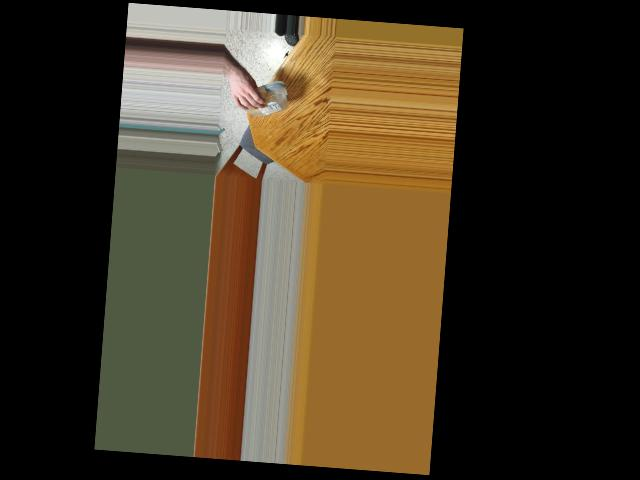cheese: (245, 83, 284, 115)
